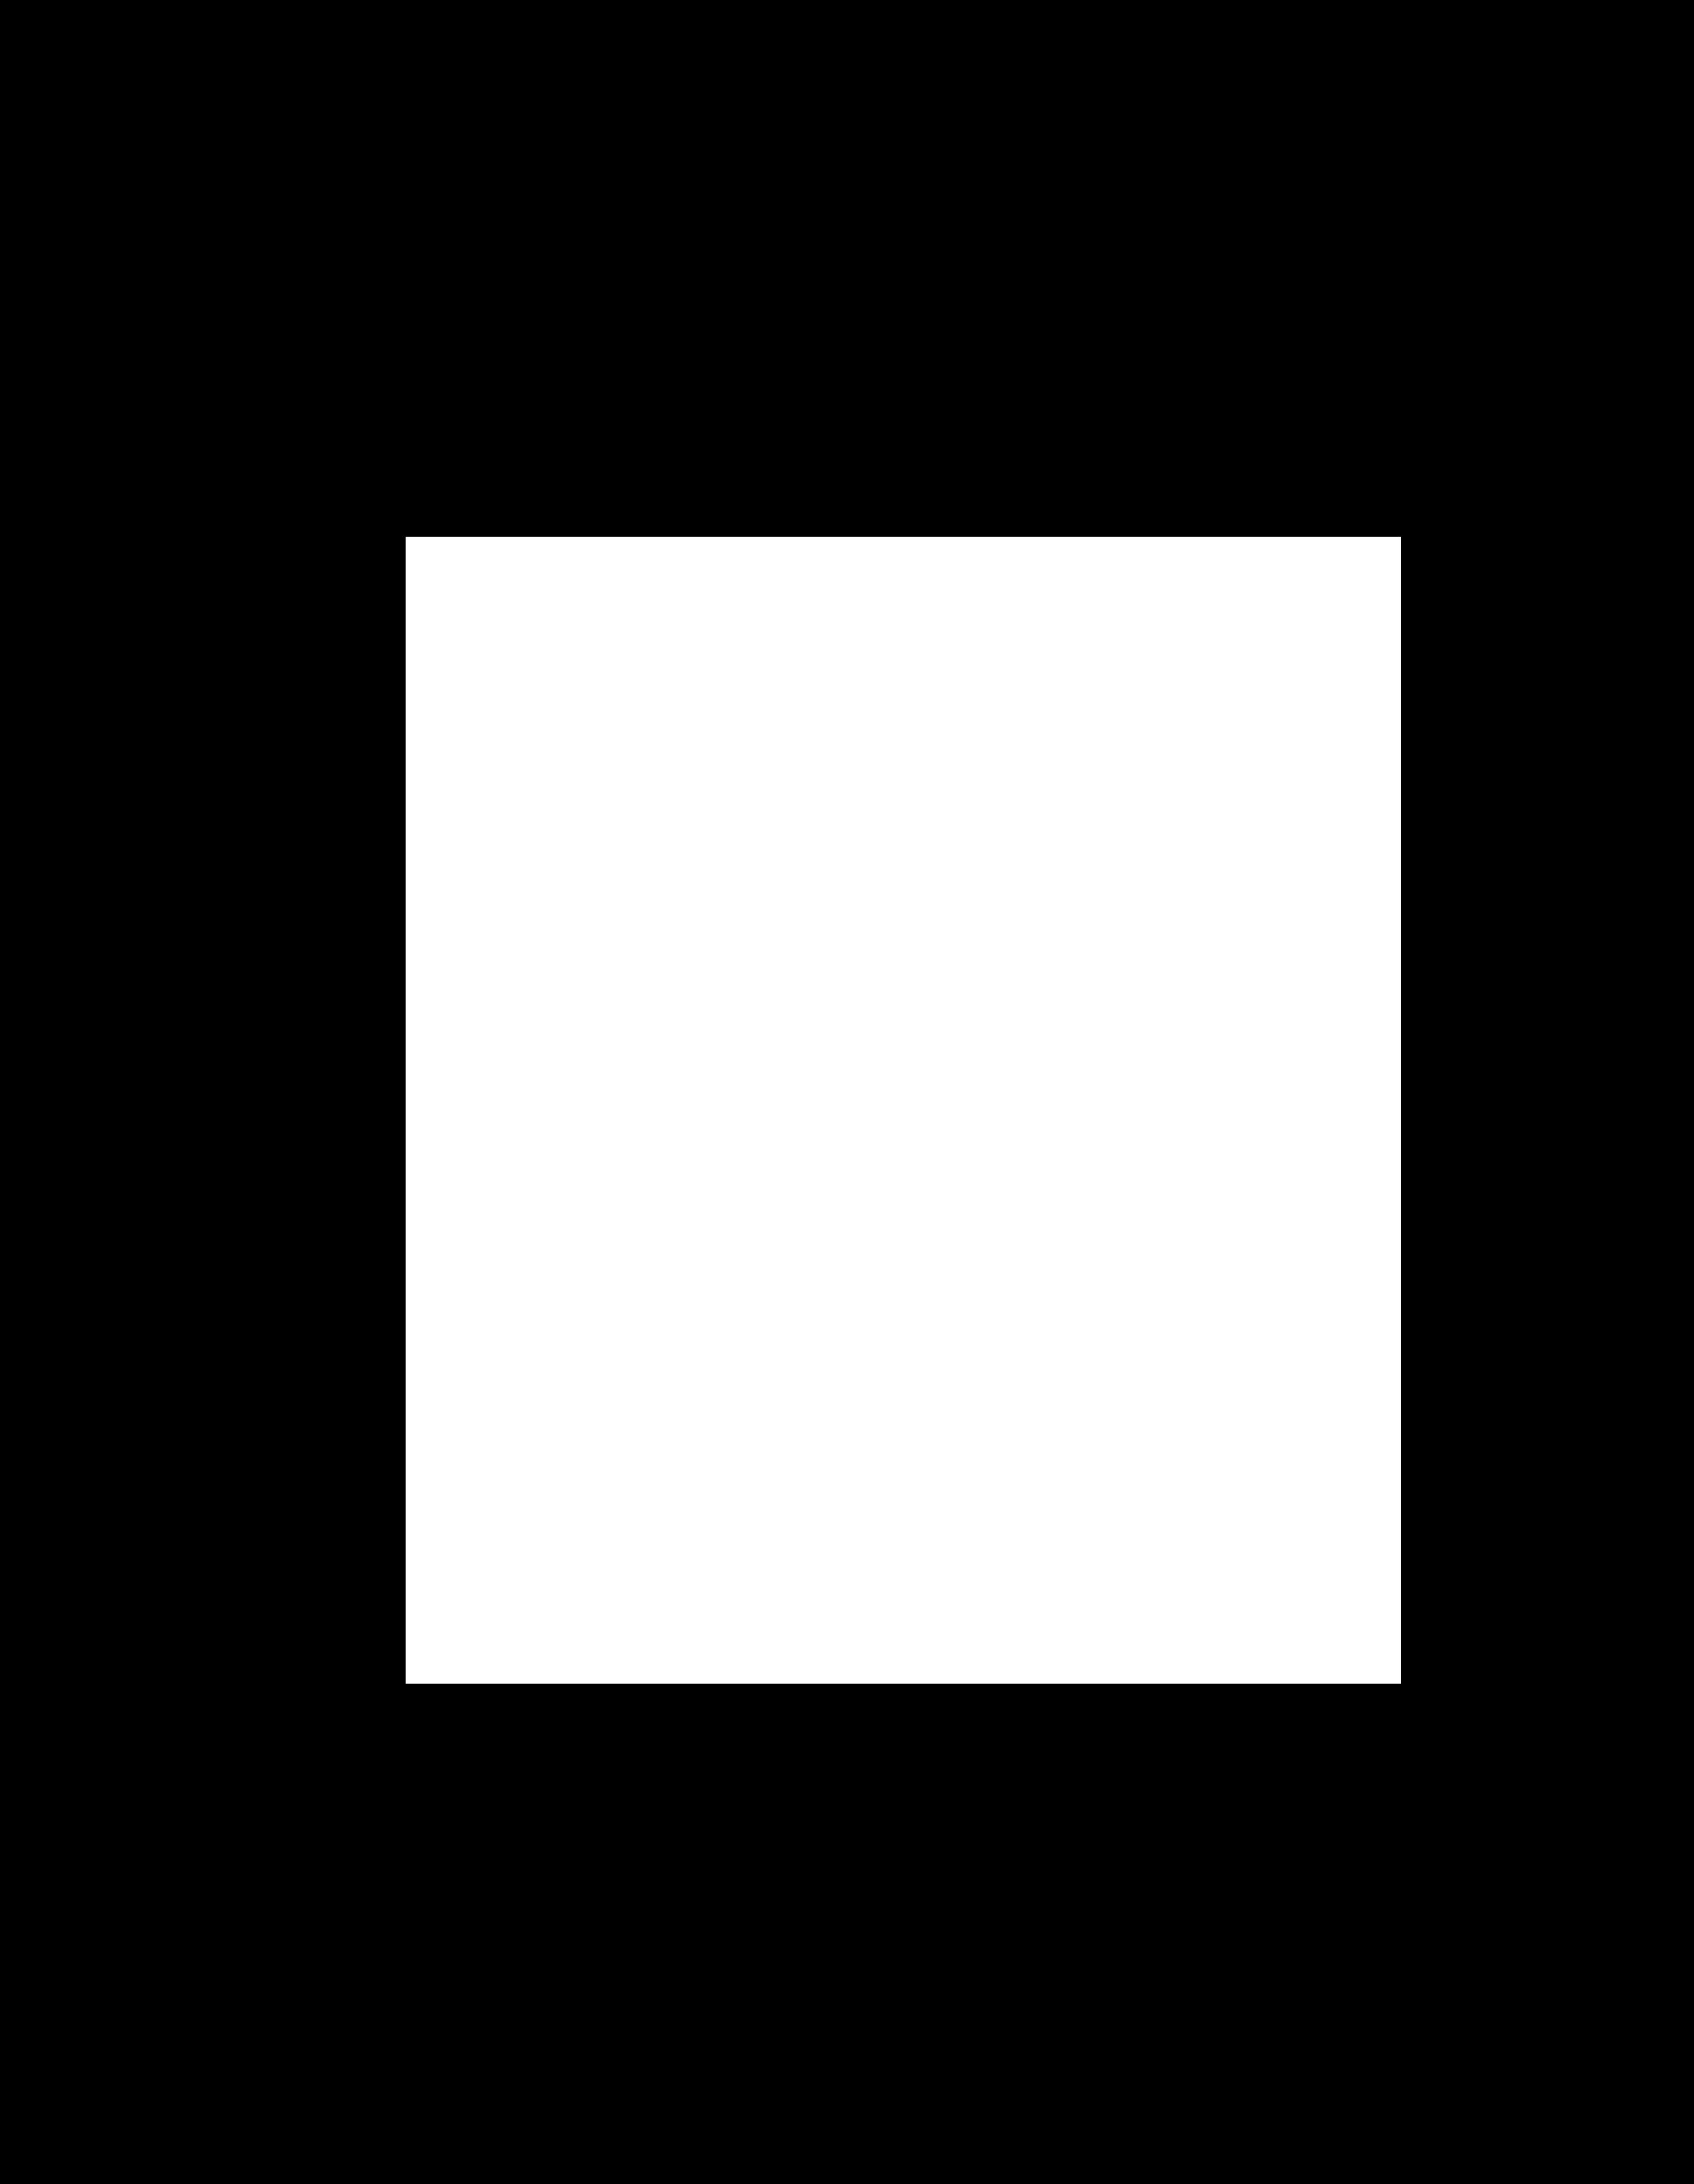table: (406, 537, 1400, 1682)
